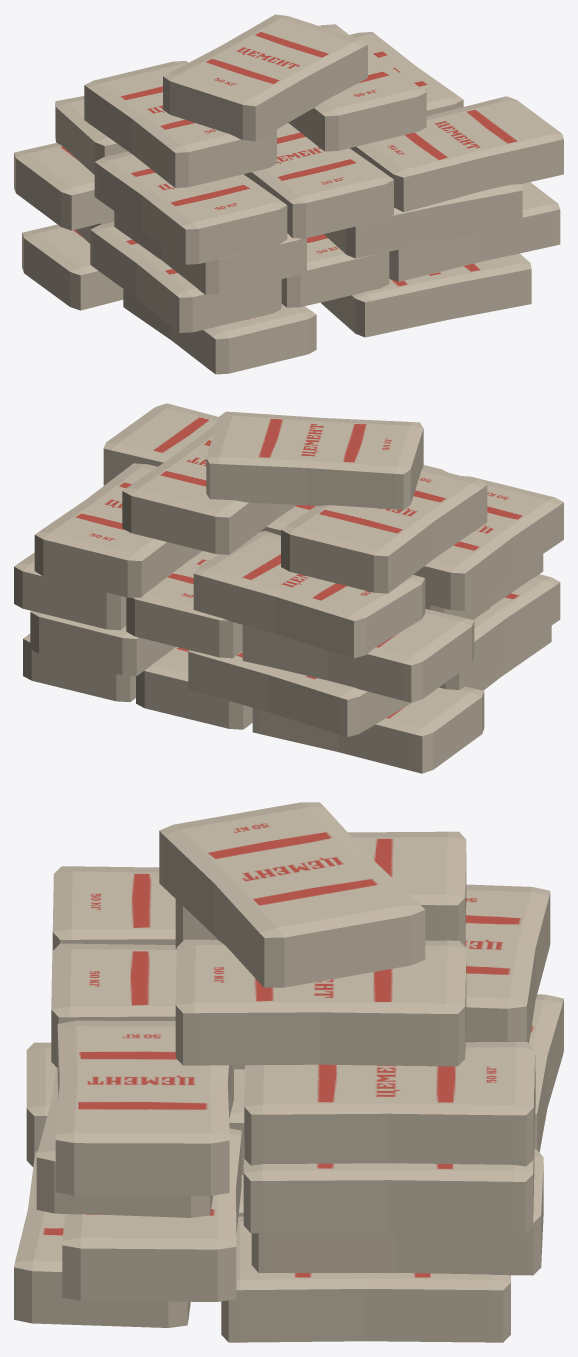
The model's file is Wh_Concrete_Stack.fbx.
The picture shows the model from 3 angles, top to bottom: view 1: azimuth 30°, elevation 25°; view 2: azimuth 150°, elevation 25°; view 3: azimuth 270°, elevation 25°; orthographic projection. The views are drawn at different scales.
Visible parts, largest first — view 1: Cube.835; view 2: Cube.835; view 3: Cube.835.
Part boxes in pixels (x1,y1,x2,y2): Cube.835: (14, 14, 563, 374); Cube.835: (14, 403, 563, 773); Cube.835: (14, 802, 563, 1342).
Size of the model in its own units: 176 by 92.85 by 141.
